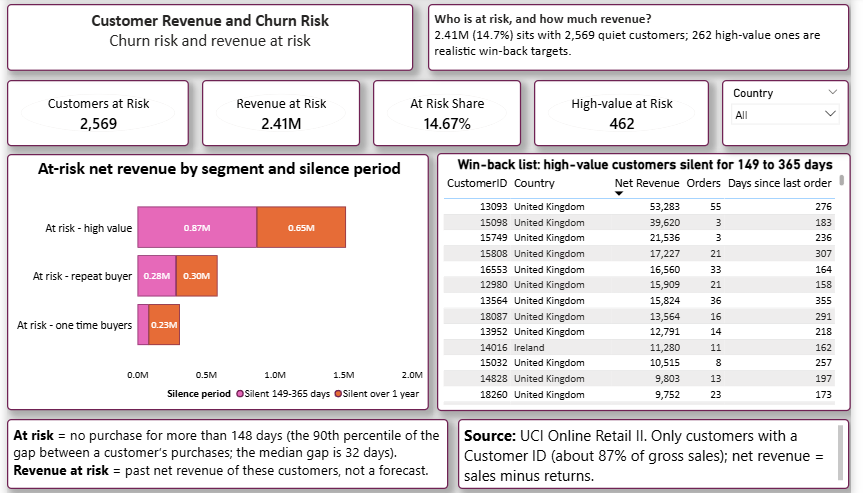

This screenshot's page, from the dashboard's own definition file:
{"tool":"powerbi","page":{"name":"Churn risk and revenue at risk","canvas":[1350,800],"ordinal":1},"visuals":[{"type":"cardVisual","fields":{"Data":["dashboard_customers.Customers at Risk Text"]},"box":[0,132.8,291.2,105.6],"z":0},{"type":"cardVisual","fields":{"Data":["dashboard_customers.At Risk Share"]},"box":[585.6,132.8,236.8,105.6],"z":1000},{"type":"cardVisual","fields":{"Data":["dashboard_customers.High-value at Risk"]},"box":[843.2,132.8,280,105.6],"z":2000},{"type":"cardVisual","fields":{"Data":["dashboard_customers.Revenue at Risk"]},"box":[312,132.8,252.8,105.6],"z":3000},{"type":"barChart","title":"At-risk net revenue by segment and silence period","fields":{"Category":["dashboard_customers.Segment"],"Y":["dashboard_customers.Total Net Revenue"],"Series":["dashboard_customers.silent_band"]},"box":[0,251.2,675.2,409.6],"z":4000},{"type":"tableEx","title":"Win-back list: high-value customers silent for 149 to 365 days","fields":{"Values":["dashboard_customers.CustomerID","dashboard_customers.Country","Sum(dashboard_customers.monetary)","Sum(dashboard_customers.frequency)","dashboard_customers.recency_days"]},"box":[688,249.6,662.4,412.8],"z":5000},{"type":"textbox","box":[673.6,11.2,673.6,107.2],"z":6000},{"type":"textbox","box":[0,11.2,649.6,107.2],"z":7000},{"type":"textbox","box":[0,675.2,705.6,112],"z":8000},{"type":"slicer","fields":{"Values":["dashboard_customers.Country"]},"box":[1144,132.8,203.2,105.6],"z":9000},{"type":"textbox","box":[721.6,675.2,625.6,112],"z":10000}]}

Visuals, with their boxes in screenshot pixels (x1, y1, x2, y2):
cardVisual - dashboard_customers.Customers at Risk Text: <bbox>2, 77, 185, 143</bbox>
cardVisual - dashboard_customers.At Risk Share: <bbox>371, 77, 520, 143</bbox>
cardVisual - dashboard_customers.High-value at Risk: <bbox>533, 77, 709, 143</bbox>
cardVisual - dashboard_customers.Revenue at Risk: <bbox>199, 77, 358, 143</bbox>
"At-risk net revenue by segment and silence period" barChart: <bbox>2, 151, 427, 409</bbox>
"Win-back list: high-value customers silent for 149 to 365 days" tableEx: <bbox>435, 150, 852, 410</bbox>
textbox: <bbox>426, 0, 850, 68</bbox>
textbox: <bbox>2, 0, 411, 68</bbox>
textbox: <bbox>2, 418, 446, 488</bbox>
slicer - dashboard_customers.Country: <bbox>722, 77, 850, 143</bbox>
textbox: <bbox>456, 418, 850, 488</bbox>
